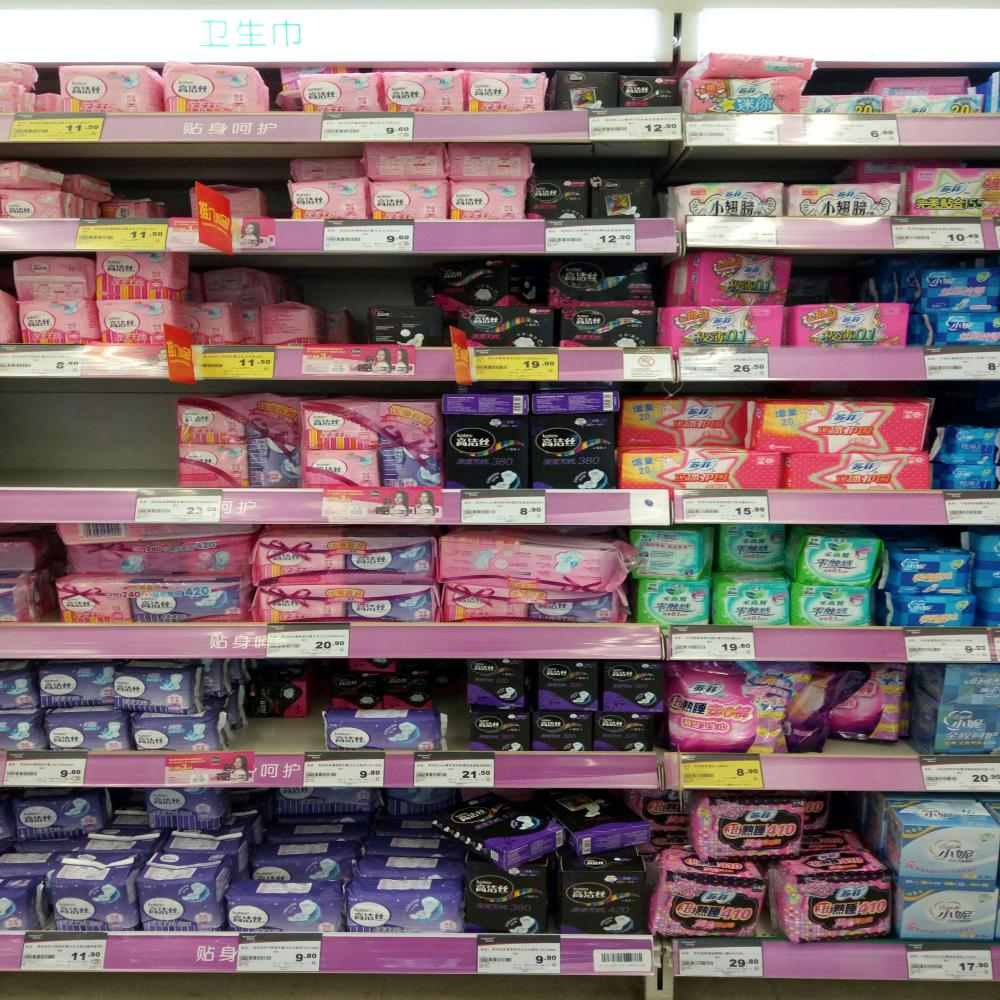shelf: (0, 930, 1000, 984), (0, 750, 1000, 792), (0, 486, 1000, 526), (0, 624, 1000, 660), (0, 348, 1000, 383), (0, 114, 1000, 148), (0, 220, 1000, 252)
